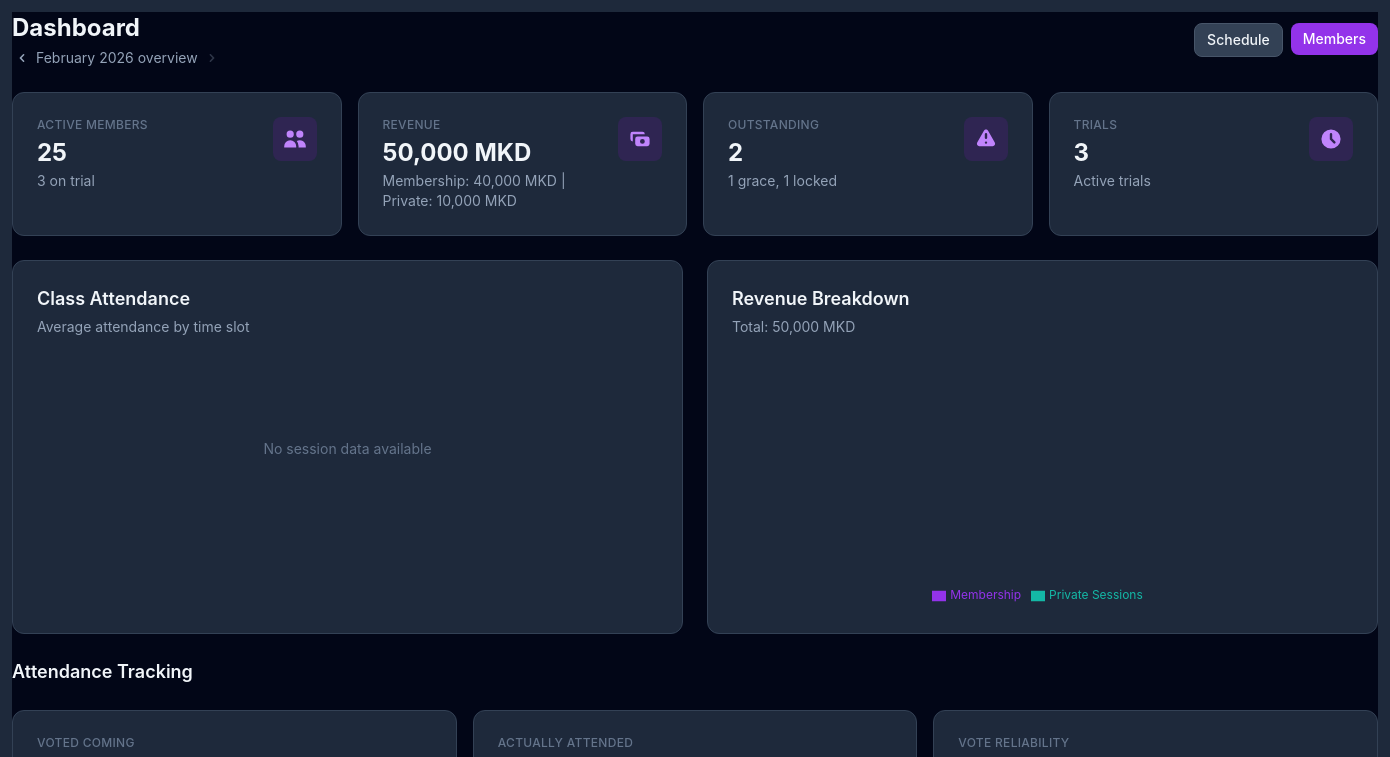
DashboardClient month navigator › enables next month button after navigating to previous month
The width and height of the screenshot is (1390, 757).
Expected: the button named "Next month" is disabled, top-left (202, 48), bottom-right (222, 68)
# Navigate to previous month and wait for fetch to complete
Click the button named "Previous month": click(22, 58) top-left (12, 48), bottom-right (32, 68)
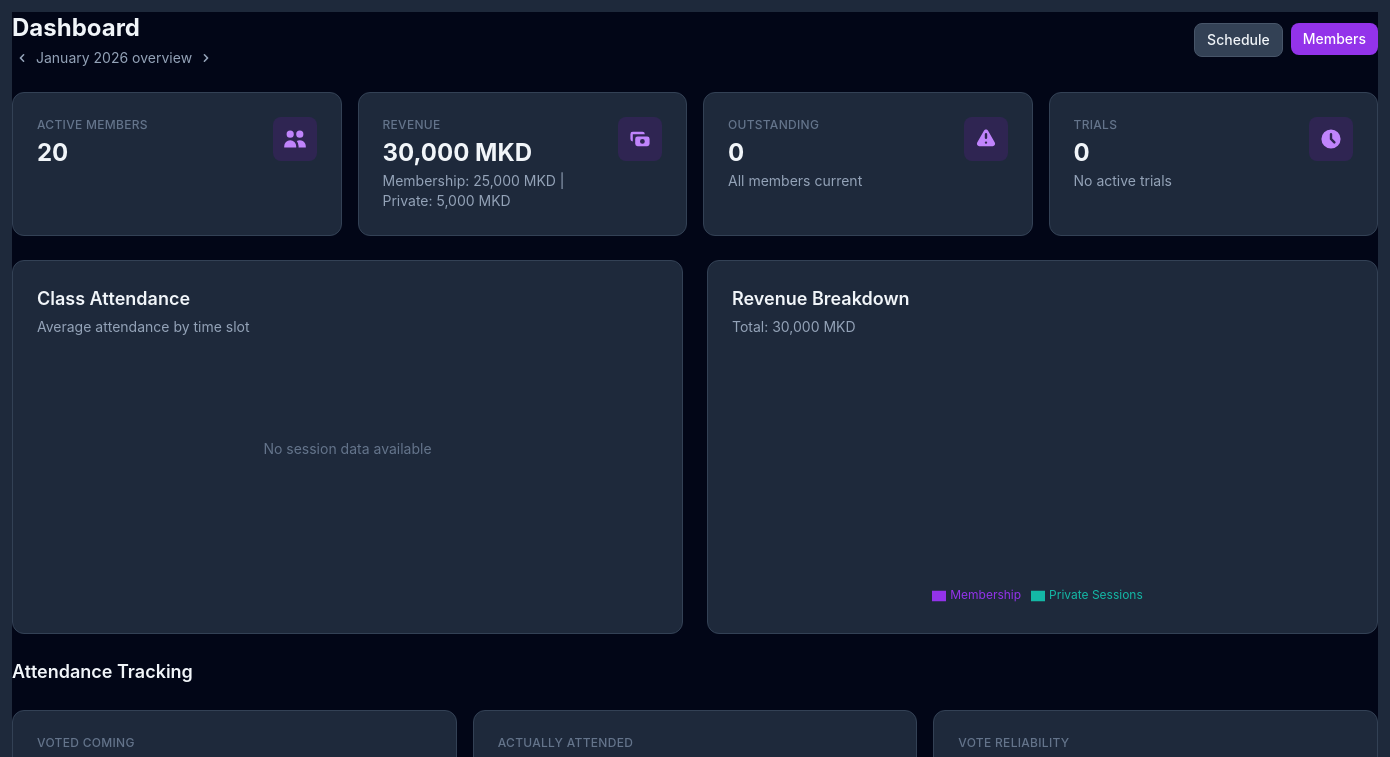
Expected: the button named "Next month" is enabled, top-left (196, 48), bottom-right (216, 68)
